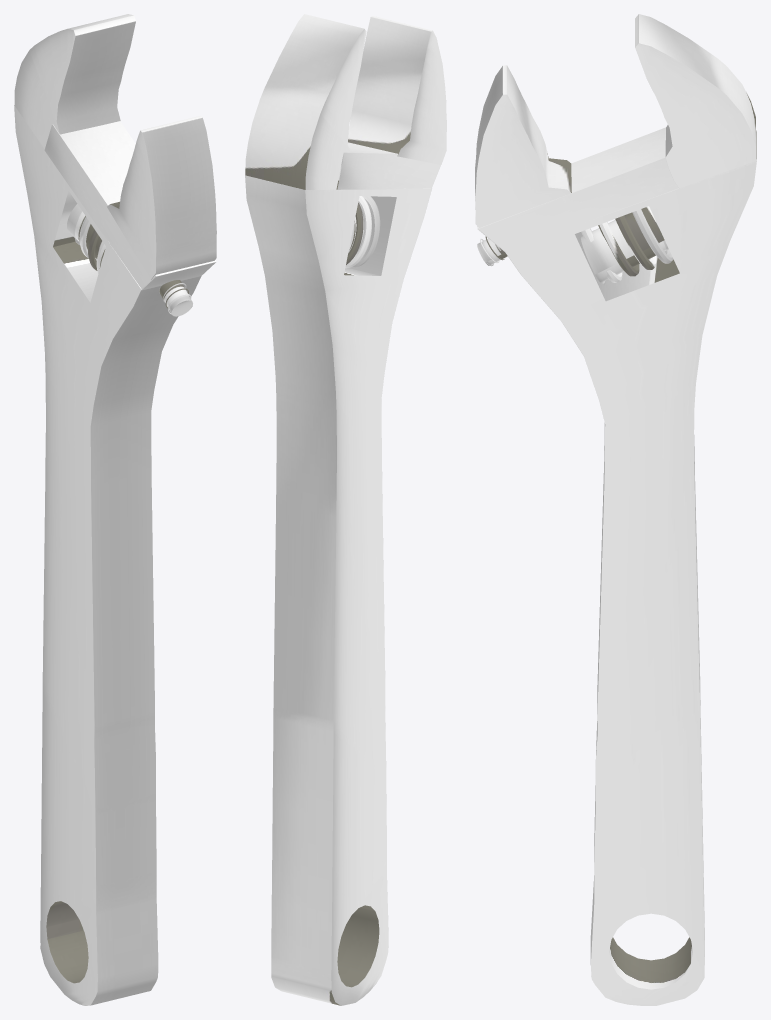
File: wrench.glb
3 views of the same model, side by side, from view 1: azimuth 30°, elevation 25°; view 2: azimuth 150°, elevation 25°; view 3: azimuth 270°, elevation 25° (orthographic).
Parts seen in each view (by area): view 1: pCube8; view 2: pCube8; view 3: pCube8.
Part boxes in pixels (bbox=[...]): pCube8: bbox=[14, 14, 216, 1005]; pCube8: bbox=[245, 14, 446, 1005]; pCube8: bbox=[475, 14, 756, 1005].
Bounding box in the file's own units: 0.638 × 9.5 × 2.52.
Materials: 1 (1 with a texture image).
